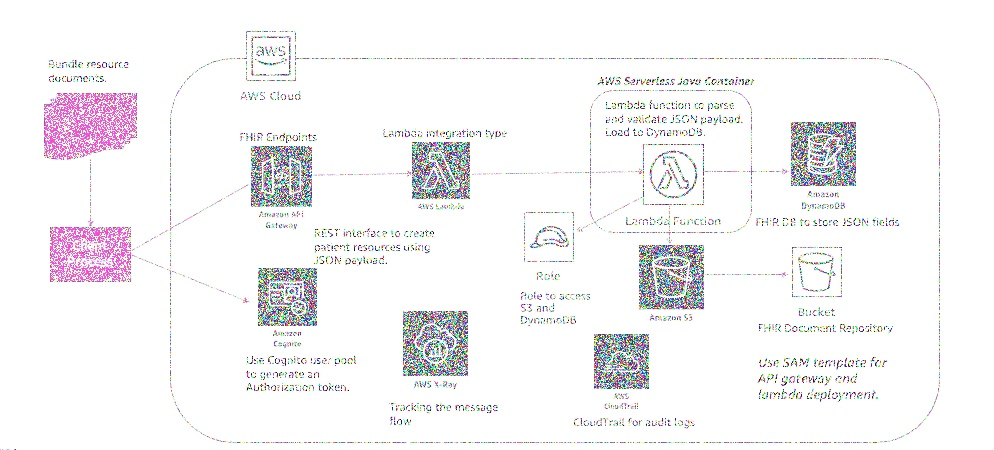API-Gateway: (243, 141, 320, 210)
Cloud Trail: (585, 325, 657, 393)
Cognito: (253, 262, 323, 330)
Dynamo DB: (786, 114, 865, 192)
IAM Role: (519, 205, 582, 269)
Lambda: (636, 138, 712, 208), (405, 134, 477, 202)
S3: (633, 238, 711, 314), (788, 240, 851, 303)
X-Ray: (398, 301, 478, 381)
aws: (243, 25, 300, 89)
